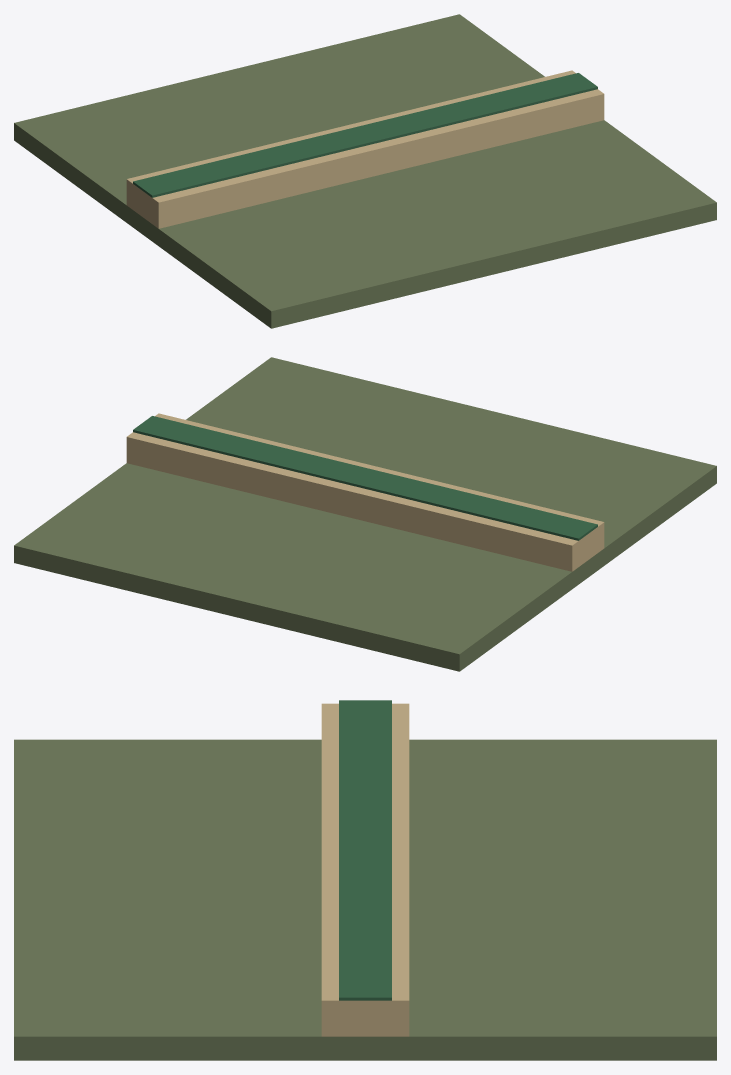
File: terrain_tile_bank_straight.glb
3 views of the same model, one above another, from view 1: azimuth 30°, elevation 25°; view 2: azimuth 150°, elevation 25°; view 3: azimuth 270°, elevation 25° (orthographic). The views are drawn at different scales.
Parts seen in each view (by area): view 1: terrain_tile_bank_straight; view 2: terrain_tile_bank_straight; view 3: terrain_tile_bank_straight.
Part boxes in pixels (x1,y1,x2,y2): terrain_tile_bank_straight: [14, 14, 716, 328]; terrain_tile_bank_straight: [14, 357, 716, 671]; terrain_tile_bank_straight: [14, 700, 716, 1060].
Size of the model in its own units: 8 by 0.79 by 8.
